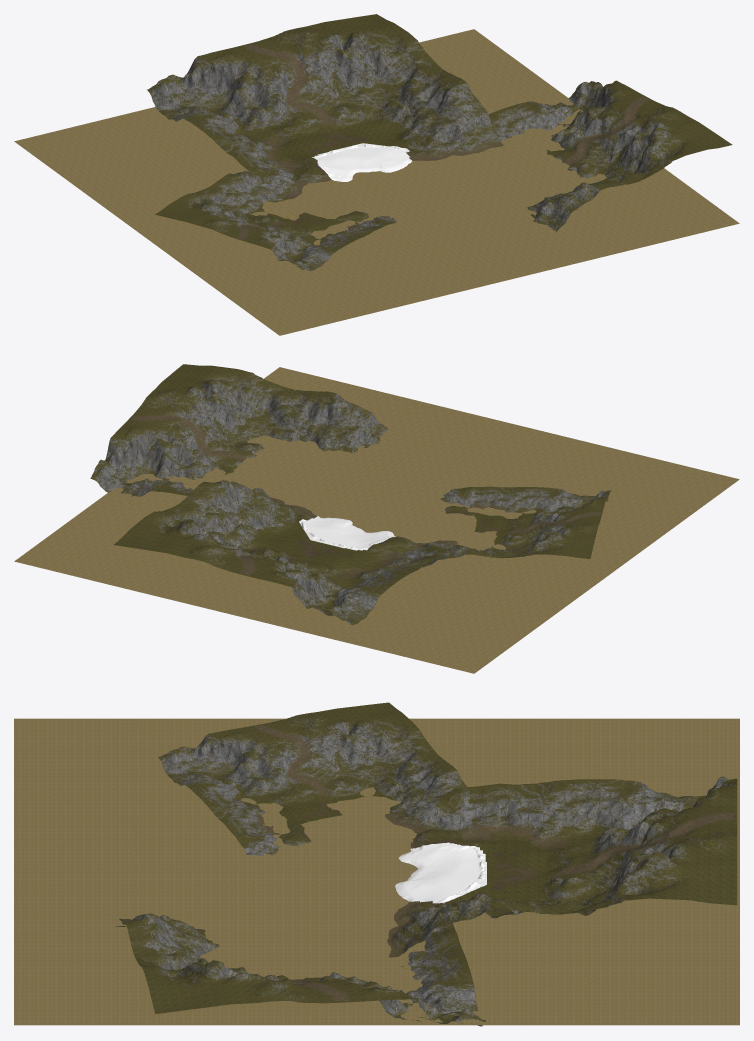
File: Terrain.gltf
The picture shows the model from 3 angles, top to bottom: view 1: azimuth 30°, elevation 25°; view 2: azimuth 150°, elevation 25°; view 3: azimuth 270°, elevation 25°; orthographic projection. The views are drawn at different scales.
Parts seen in each view (by area): view 1: Baseplate, terrain_far_01.002, terrain_far_01, terrain_far_01.001, terrain_near_01; view 2: Baseplate, terrain_far_01, terrain_far_01.002, terrain_far_01.001, terrain_near_01; view 3: Baseplate, terrain_far_01.002, terrain_far_01.001, terrain_far_01, terrain_near_01.
Part boxes in pixels (left/top/right/bottom): Baseplate: left=14, top=29, right=739, bottom=335; terrain_far_01.002: left=147, top=14, right=503, bottom=199; terrain_far_01: left=488, top=80, right=732, bottom=231; terrain_far_01.001: left=155, top=171, right=397, bottom=271; terrain_near_01: left=312, top=143, right=412, bottom=181; Baseplate: left=14, top=367, right=739, bottom=673; terrain_far_01: left=90, top=364, right=388, bottom=496; terrain_far_01.002: left=114, top=480, right=457, bottom=625; terrain_far_01.001: left=423, top=486, right=611, bottom=567; terrain_near_01: left=299, top=516, right=396, bottom=550; Baseplate: left=14, top=718, right=739, bottom=1025; terrain_far_01.002: left=385, top=776, right=737, bottom=957; terrain_far_01.001: left=158, top=702, right=466, bottom=855; terrain_far_01: left=116, top=913, right=485, bottom=1026; terrain_near_01: left=395, top=842, right=486, bottom=903.
Size of the model in its own units: 1097 by 133 by 1000.
